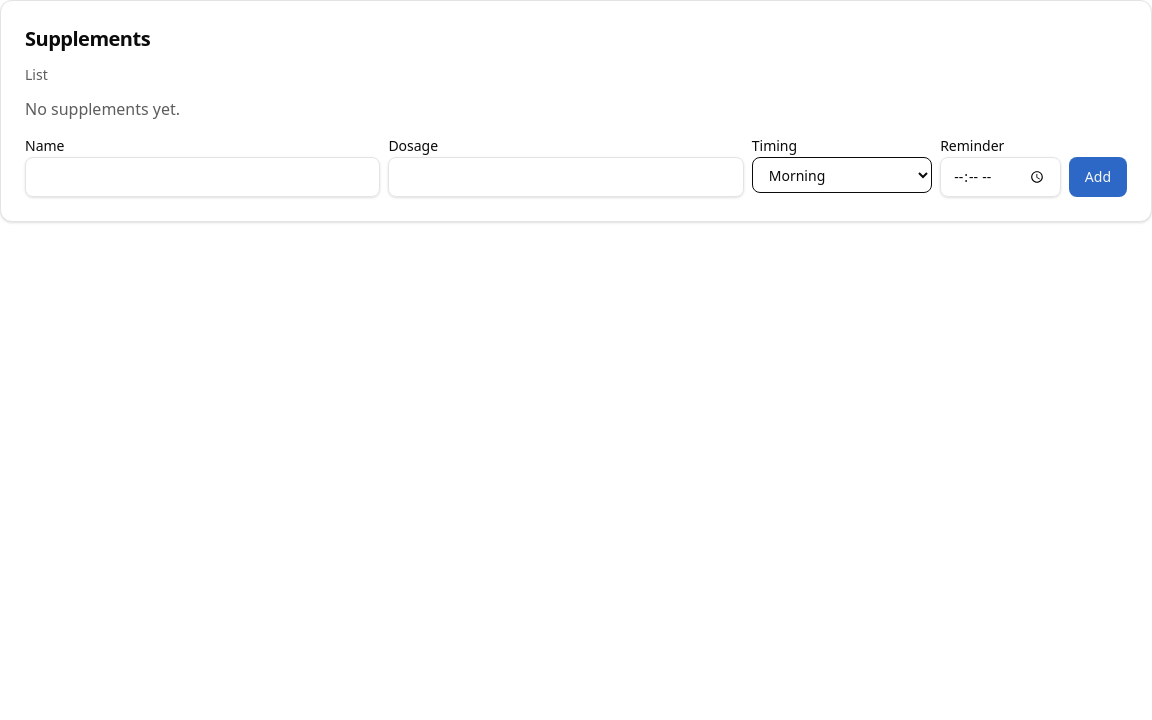
Scenario: SupplementsSection › shows the create-error toast when the create mutation fails
The image size is (1152, 720).
expect the text "No supplements yet." is shown: met, box [25,98,180,120]
Type "Vitamin D" into the field labelled "Name".
click(203, 177); type("Vitamin D")  # box [25,157,380,197]
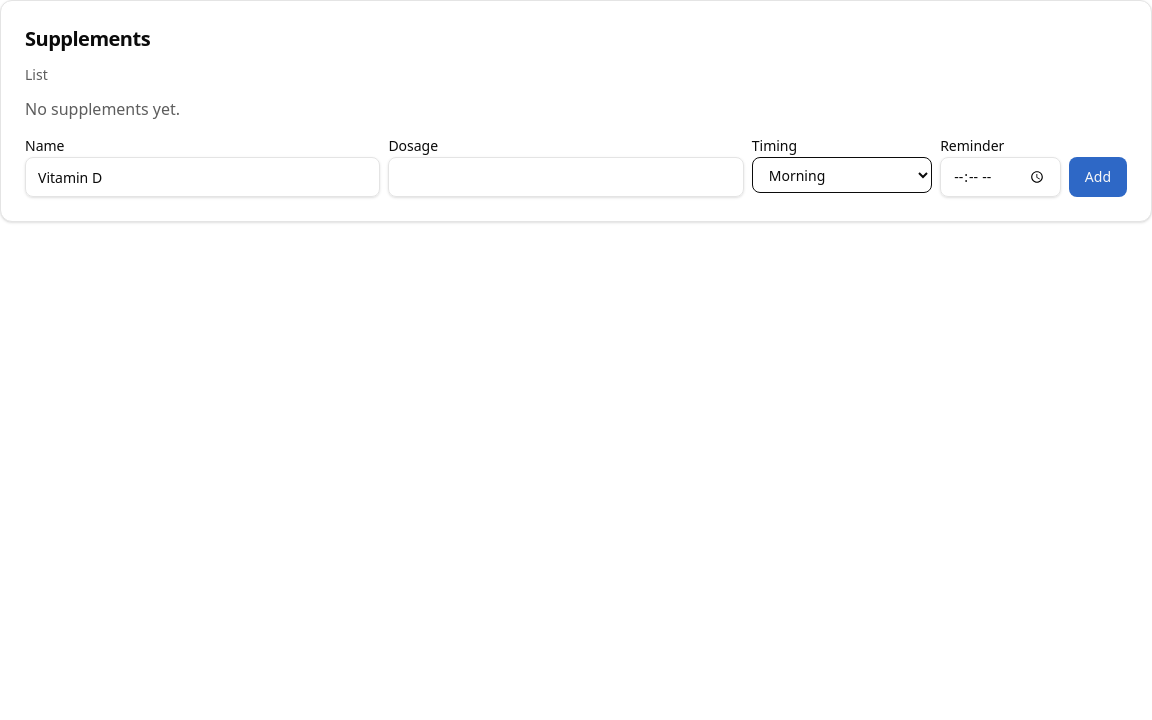
Click the button "Add".
click(1098, 177)  # box [1069,157,1127,197]
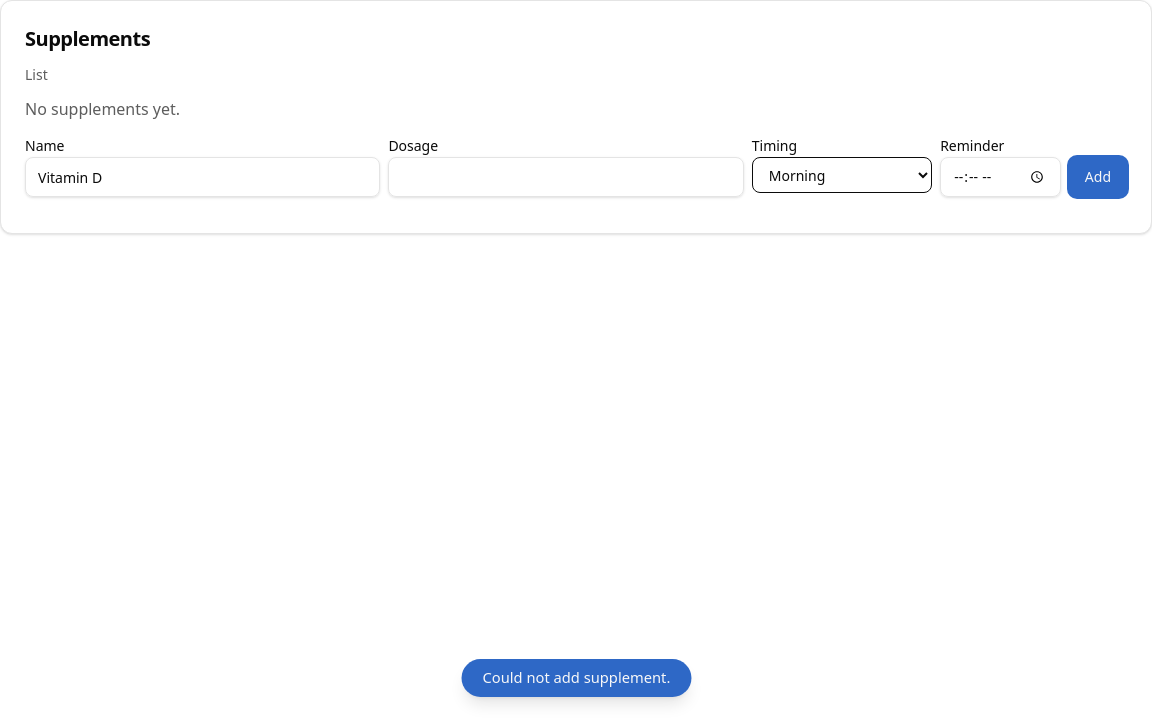
expect the message with test id "pr-toast" reads "Could not add supplement.": met, box [482,668,670,688]
